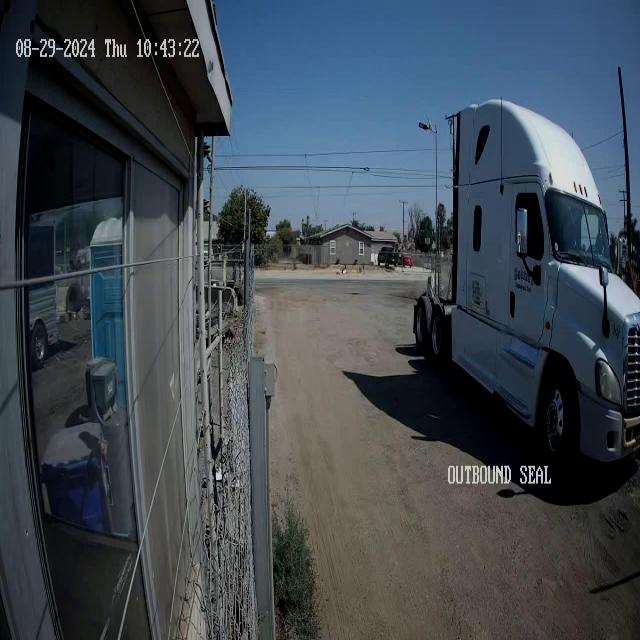BOBTAIL: (413, 96, 639, 476)
